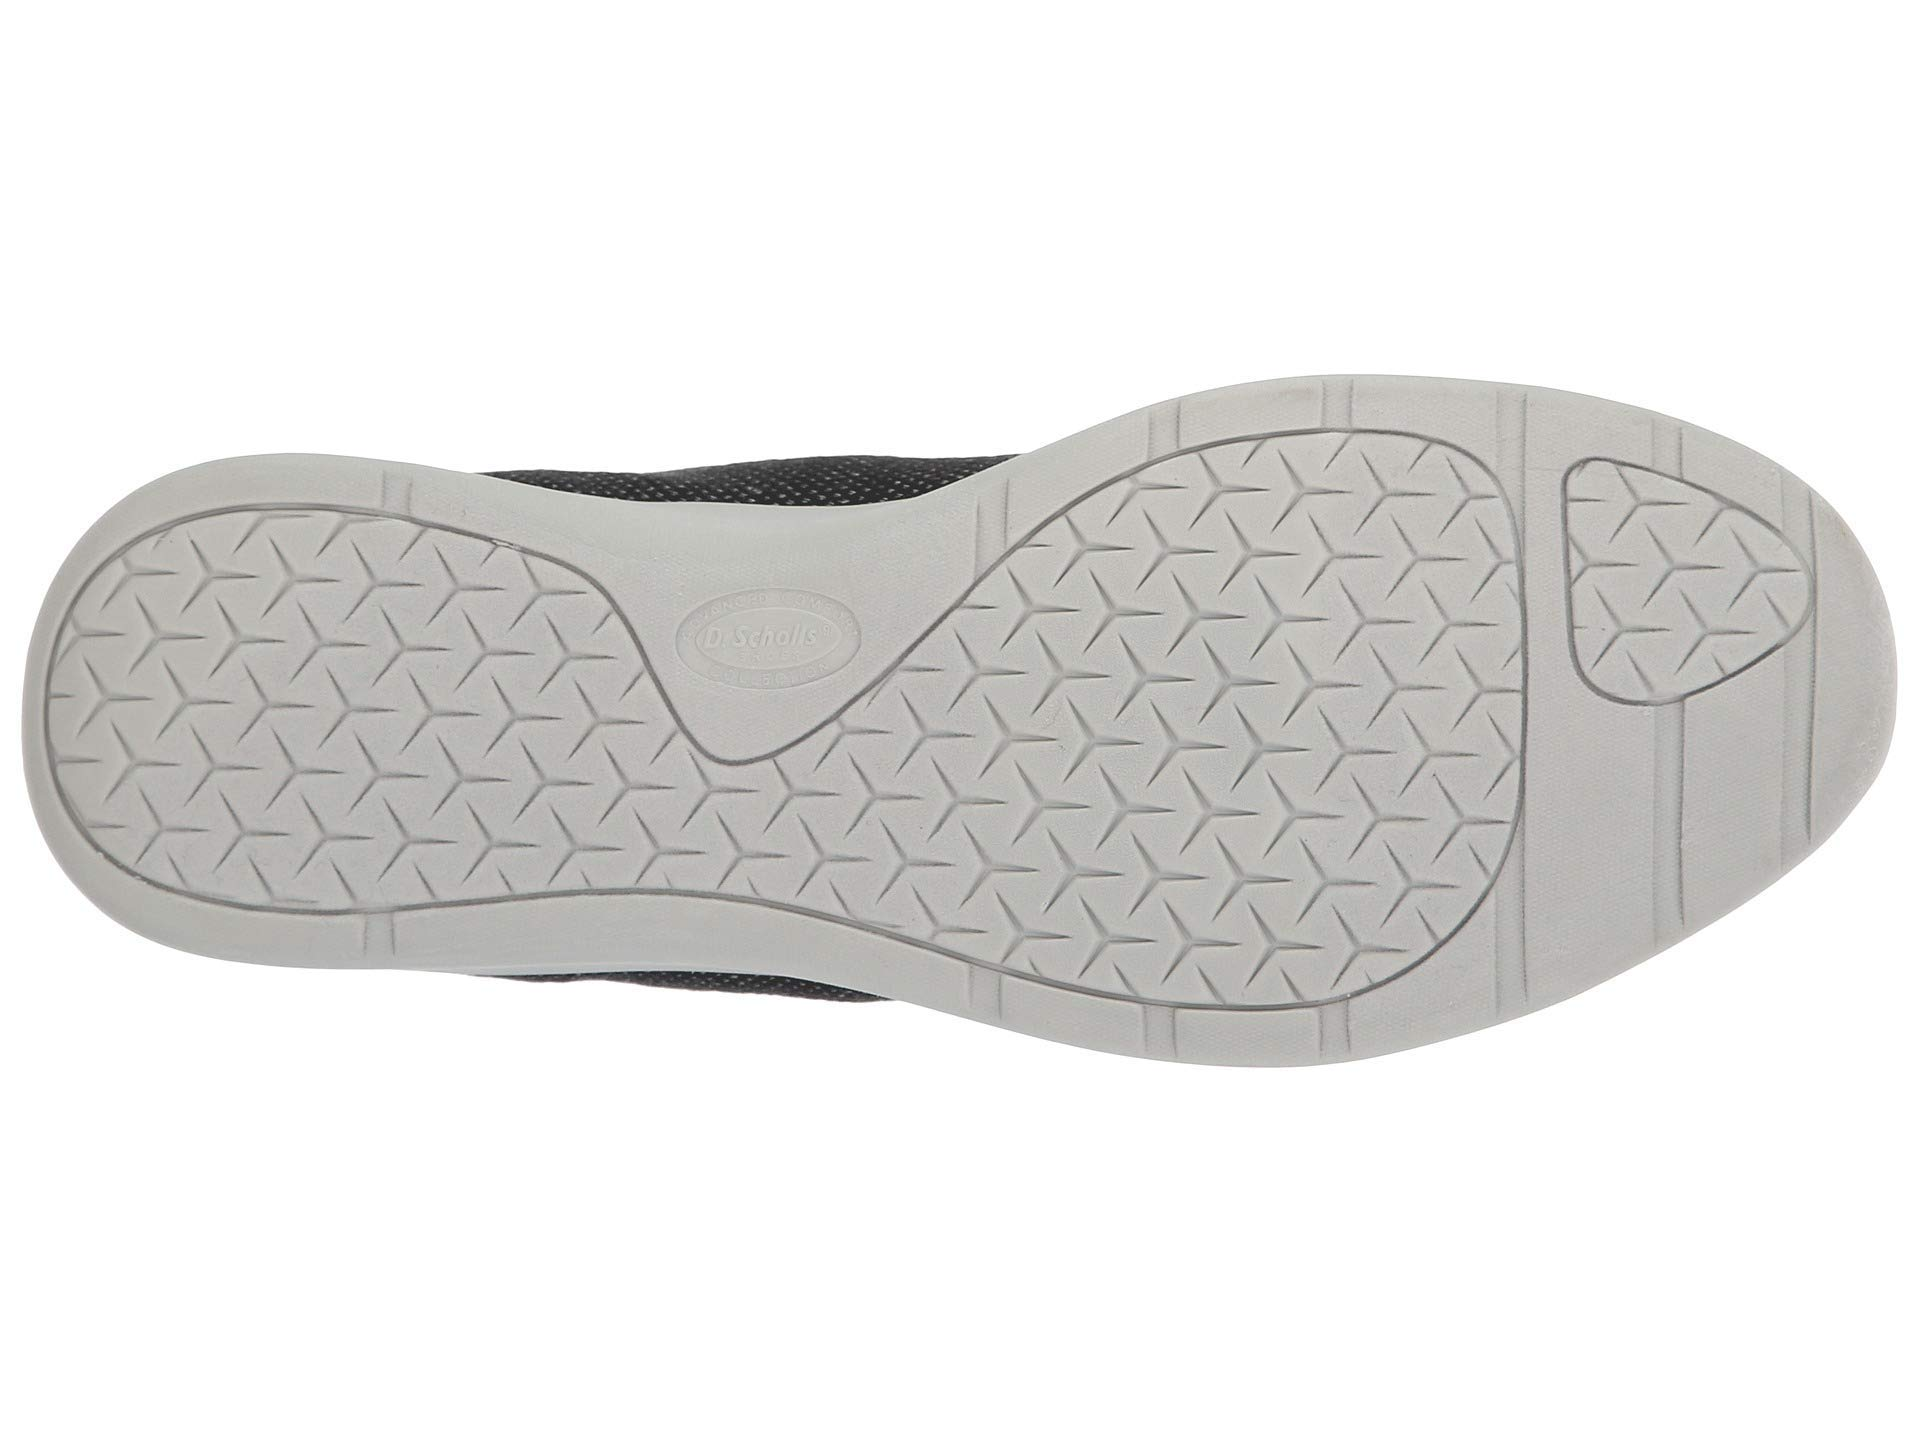star: (1076, 529, 1491, 948), (215, 573, 562, 914)
